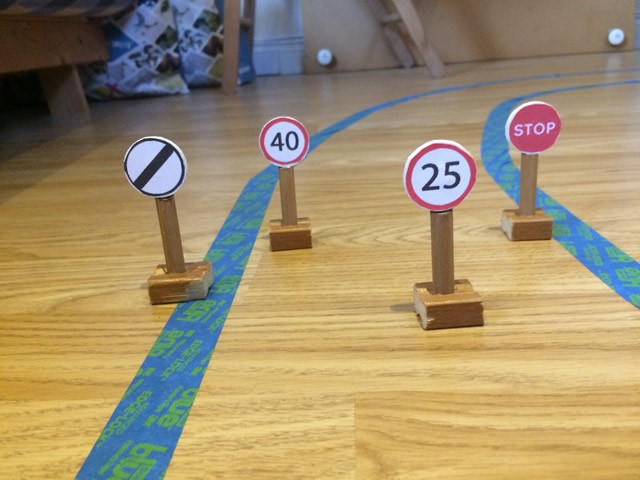Full Speed: (125, 136, 188, 197)
Speed Limit 25: (407, 143, 478, 213)
Speed Limit 40: (259, 117, 310, 166)
Stop Sign: (510, 103, 560, 151)
